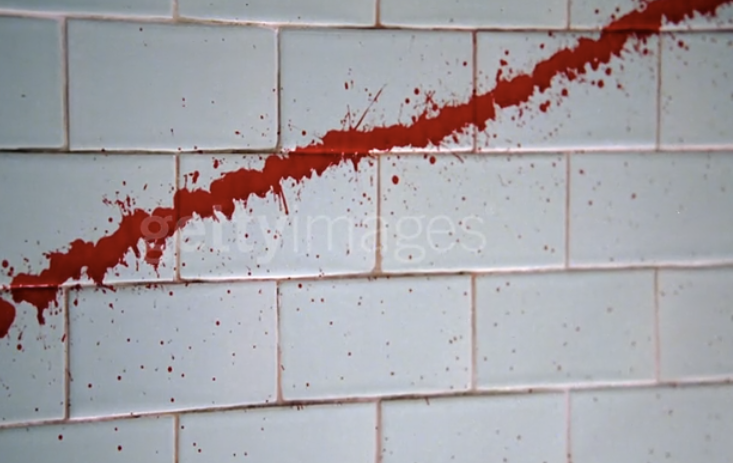blood_43.png: (3, 3, 726, 347)
